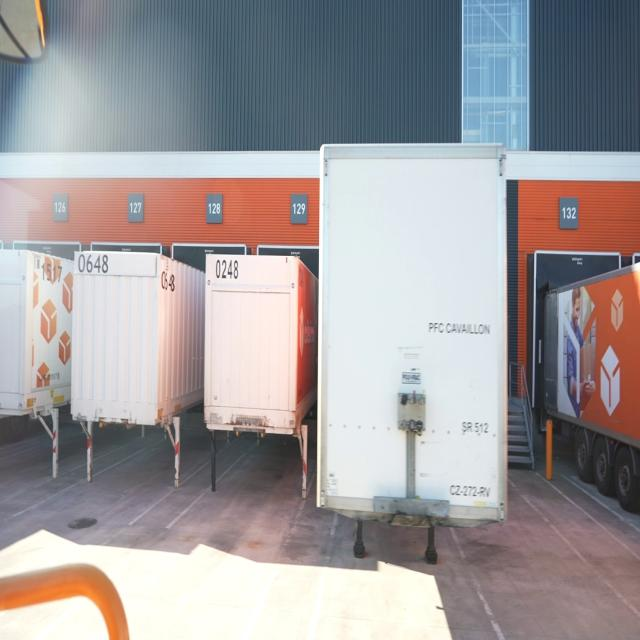Code: (74, 249, 111, 277), (39, 254, 65, 287), (214, 256, 243, 284)
